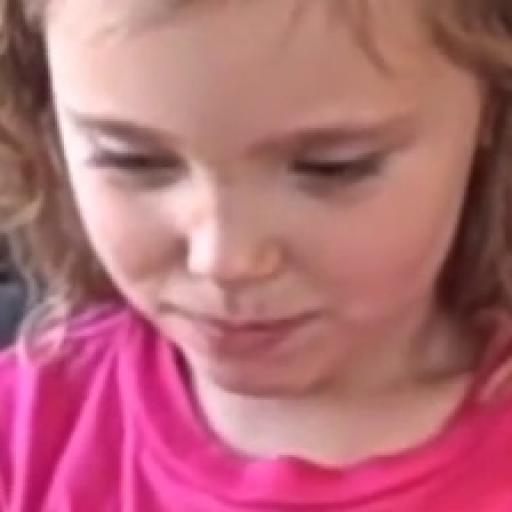Autism: (32, 2, 512, 447)
